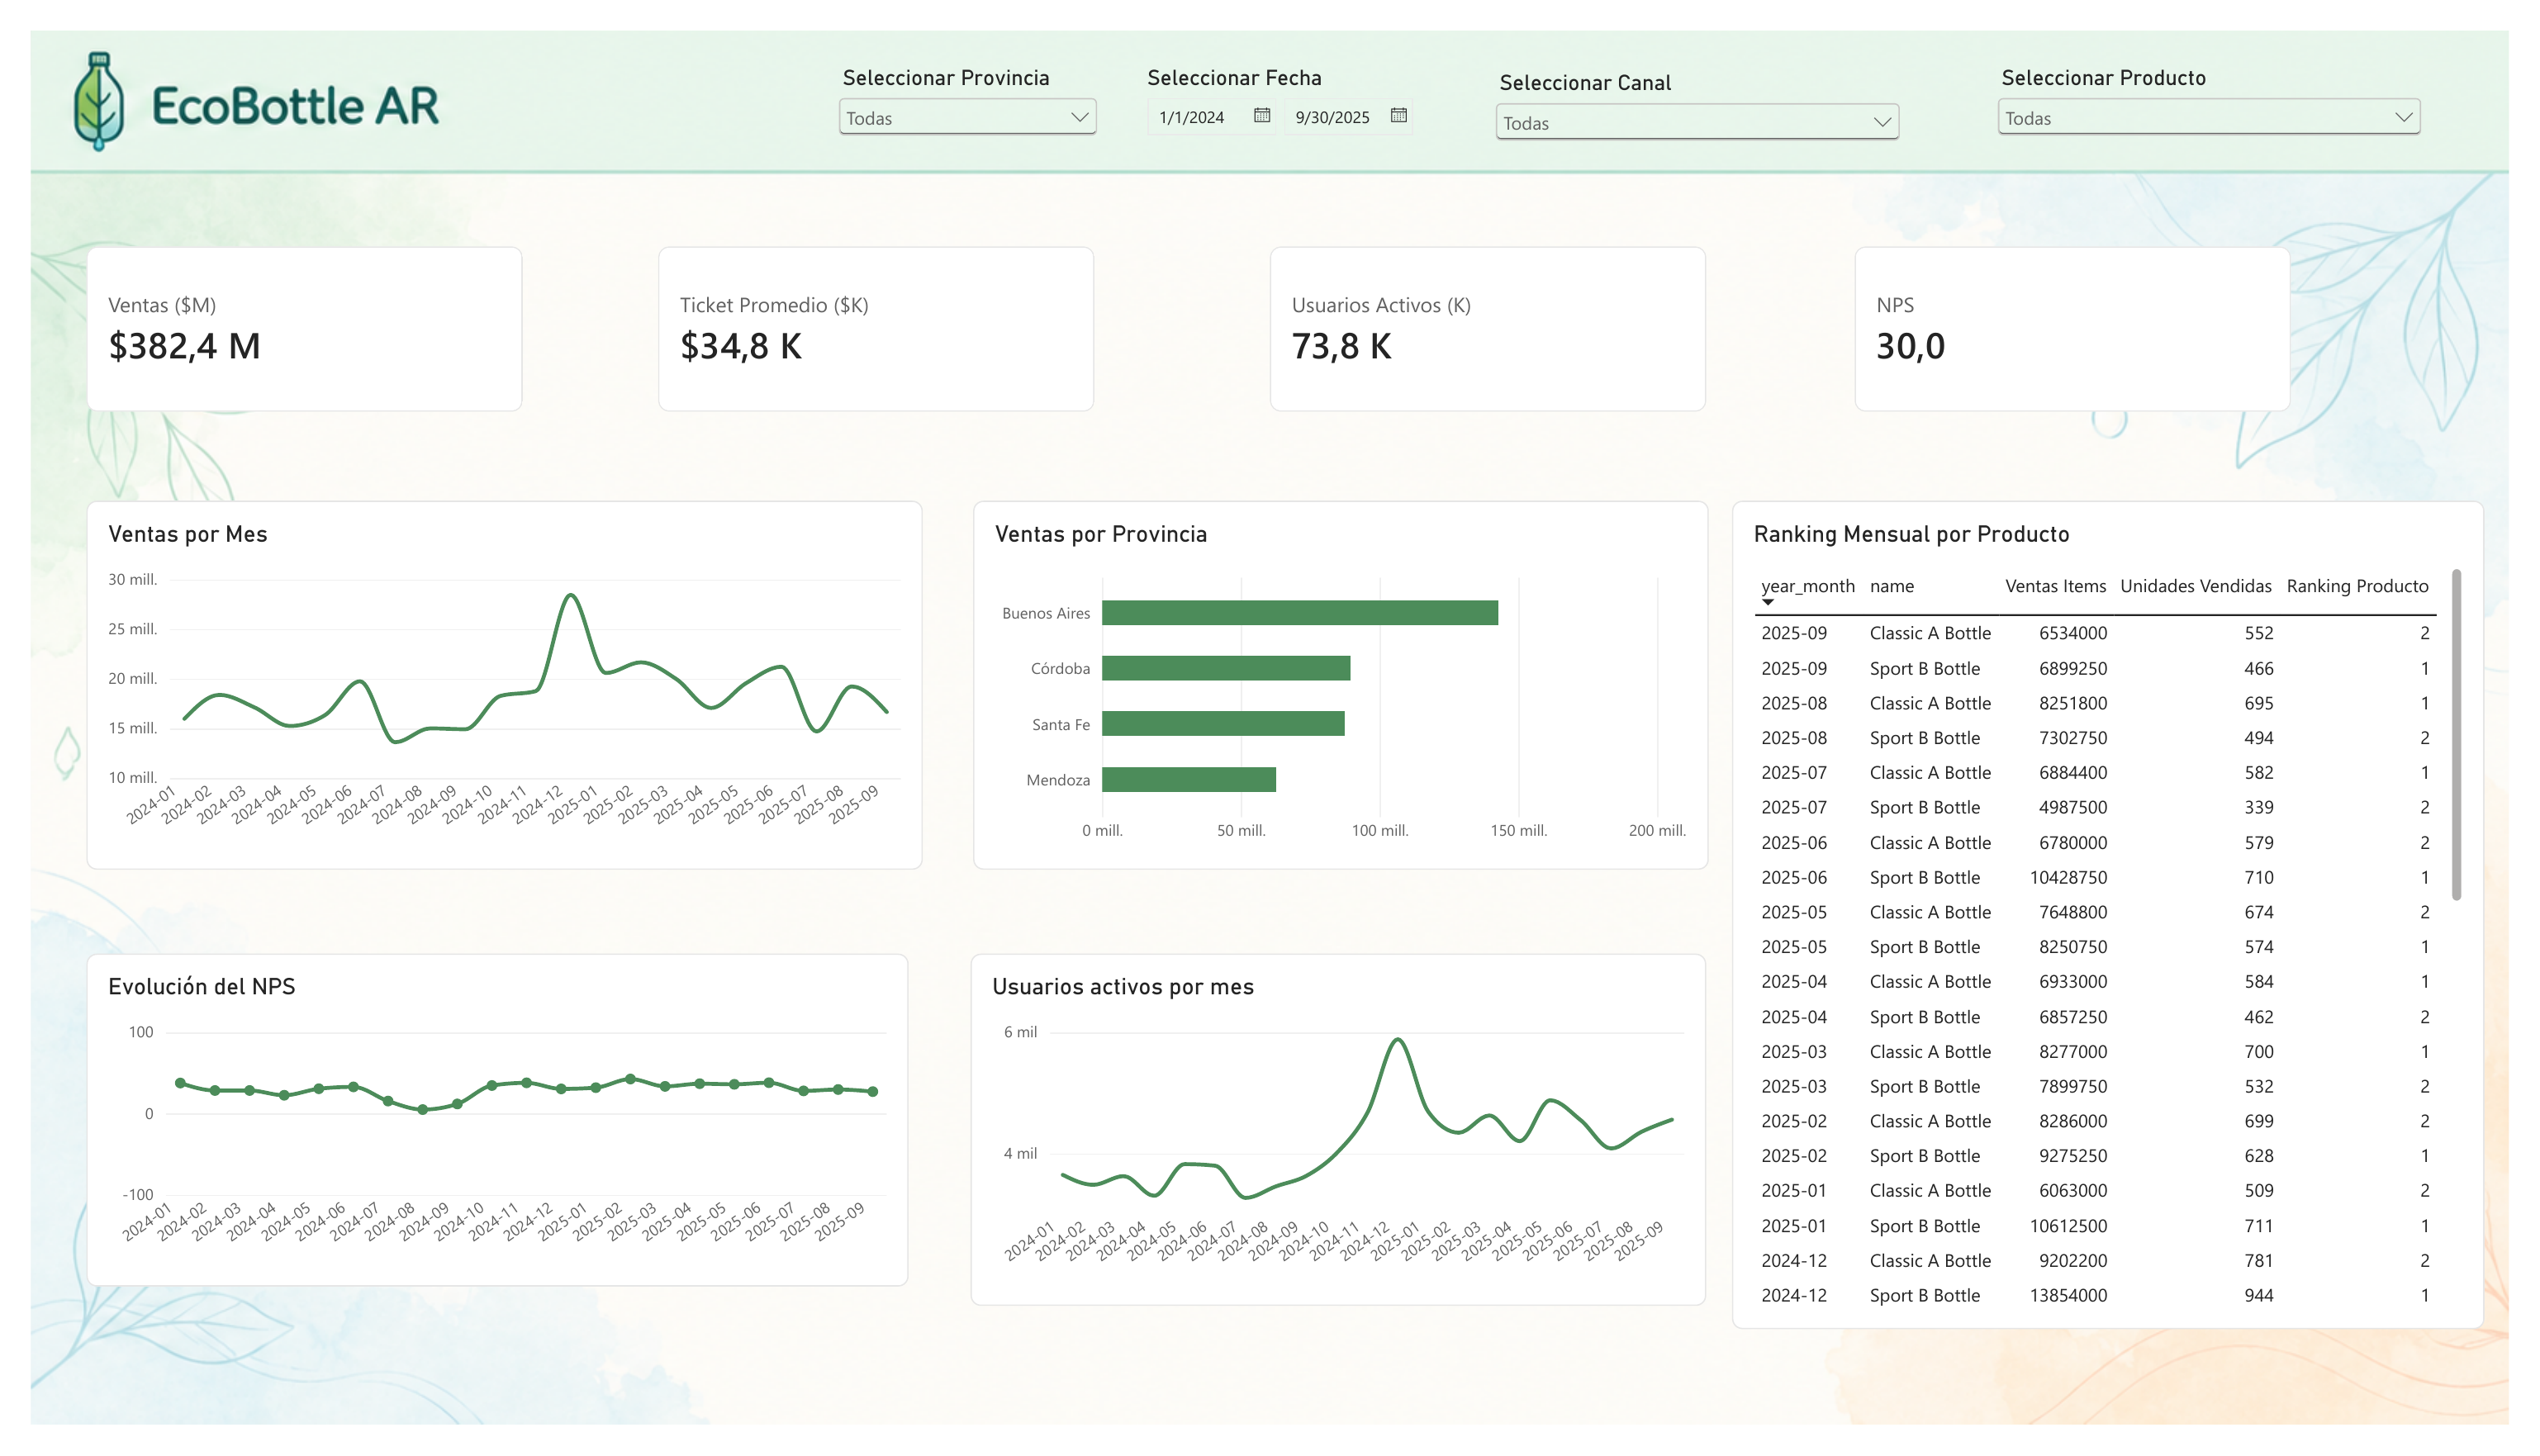

The page's visual inventory and layout, read from the dashboard file:
{"tool":"powerbi","page":{"name":"Página 1","canvas":[1920,1080],"ordinal":0},"visuals":[{"type":"cardVisual","title":"VENTAS","fields":{"Data":["fact_sales_order.Ventas ($M)"]},"box":[42.7,167.1,337.9,128.1],"z":1},{"type":"lineChart","title":"Ventas por Mes","fields":{"Category":["dim_date.year_month"],"Y":["fact_sales_order.Ventas"]},"box":[42.7,363.9,648,286],"z":2},{"type":"barChart","title":"Ventas por Provincia","fields":{"Category":["dim_province.name"],"Y":["fact_sales_order.Ventas"]},"box":[729.7,363.9,570.1,286],"z":3},{"type":"lineChart","title":"Evolución del NPS","fields":{"Category":["dim_date.year_month"],"Y":["fact_nps.NPS"]},"box":[42.7,714.9,636.9,258.1],"z":4},{"type":"lineChart","title":"Usuarios activos por mes","fields":{"Category":["dim_date.year_month"],"Y":["fact_web_session.Usuarios Activos"]},"box":[727.9,714.9,570.1,273],"z":5},{"type":"cardVisual","fields":{"Data":["fact_sales_order.Ticket Promedio ($K)"]},"box":[486.5,167.1,337.9,128.1],"z":6},{"type":"cardVisual","fields":{"Data":["fact_web_session.Usuarios Activos (K)"]},"box":[960,167.1,337.9,128.1],"z":7},{"type":"cardVisual","fields":{"Data":["fact_nps.NPS (texto)"]},"box":[1413.1,167.1,337.9,128.1],"z":8},{"type":"tableEx","title":"Ranking Mensual por Producto","fields":{"Values":["dim_date.year_month","dim_product.name","fact_sales_item.Ventas Items","fact_sales_item.Unidades Vendidas","fact_sales_item.Ranking Producto"]},"box":[1318.4,363.9,583.1,642.5],"z":10},{"type":"slicer","fields":{"Values":["dim_province.name"]},"box":[621.3,25.5,209.8,65],"z":11},{"type":"slicer","fields":{"Values":["dim_date.full_date"]},"box":[857.4,25.5,273,154],"z":12},{"type":"slicer","fields":{"Values":["dim_channel.name"]},"box":[1129.8,29.8,323.1,76.1],"z":13},{"type":"slicer","fields":{"Values":["dim_product.name"]},"box":[1519.1,25.5,337.9,78],"z":14}]}

Visuals, with their boxes on the page's 1920x1080 design canvas (x1, y1, x2, y2). These are canvas units, not pixel positions in the 2540x1456 screenshot, which may show the page scaled, cropped or inside an application window:
"VENTAS" cardVisual: box(43, 167, 381, 295)
"Ventas por Mes" lineChart: box(43, 364, 691, 650)
"Ventas por Provincia" barChart: box(730, 364, 1300, 650)
"Evolución del NPS" lineChart: box(43, 715, 680, 973)
"Usuarios activos por mes" lineChart: box(728, 715, 1298, 988)
cardVisual - fact_sales_order.Ticket Promedio ($K): box(486, 167, 824, 295)
cardVisual - fact_web_session.Usuarios Activos (K): box(960, 167, 1298, 295)
cardVisual - fact_nps.NPS (texto): box(1413, 167, 1751, 295)
"Ranking Mensual por Producto" tableEx: box(1318, 364, 1902, 1006)
slicer - dim_province.name: box(621, 26, 831, 90)
slicer - dim_date.full_date: box(857, 26, 1130, 180)
slicer - dim_channel.name: box(1130, 30, 1453, 106)
slicer - dim_product.name: box(1519, 26, 1857, 104)
